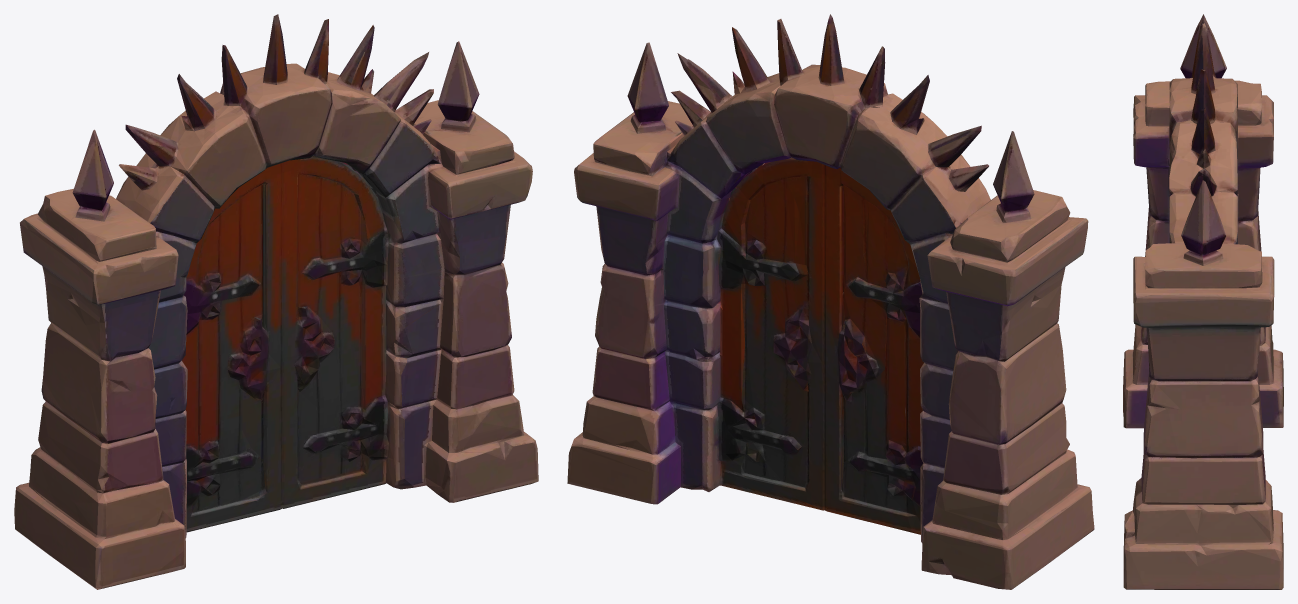
File: stone_arch_gate_1.glb
3 renders of one model, left to right at view 1: azimuth 30°, elevation 25°; view 2: azimuth 150°, elevation 25°; view 3: azimuth 270°, elevation 25°, orthographic. The views are drawn at different scales.
Size of the model in its own units: 1.87 by 1.98 by 0.6278.
1 material, 1 textured.
